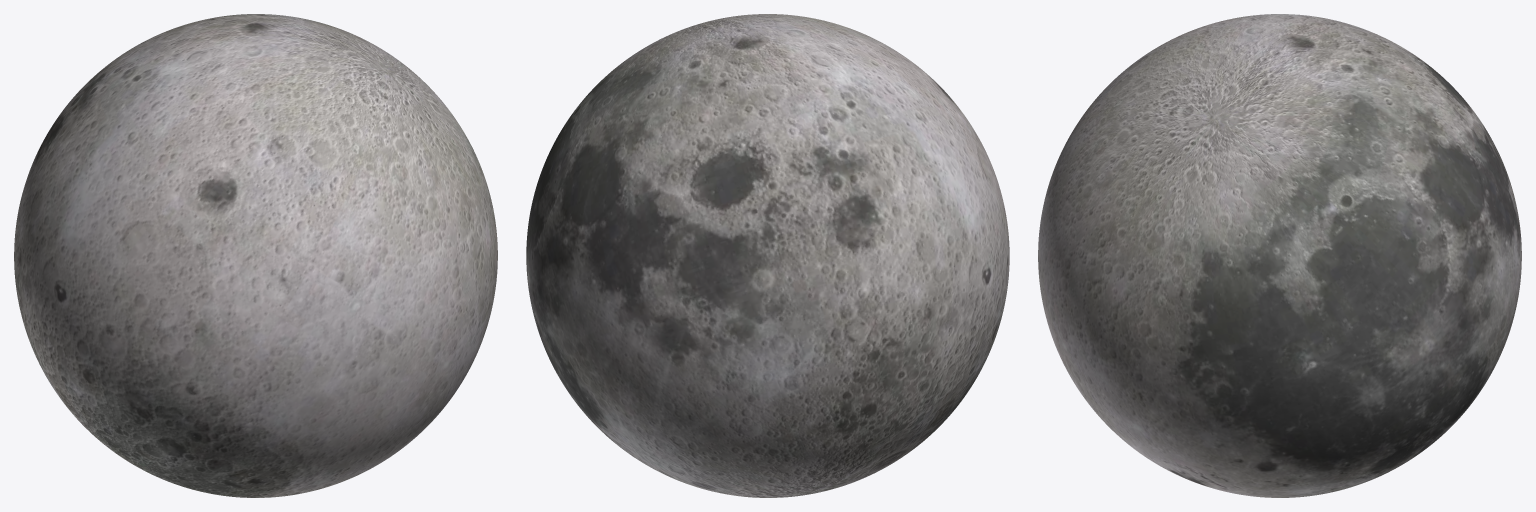
Rendered from Moon-transformed.glb.
The picture shows the model from 3 angles, left to right: view 1: azimuth 30°, elevation 25°; view 2: azimuth 150°, elevation 25°; view 3: azimuth 270°, elevation 25°; orthographic projection.
Parts seen in each view (by area): view 1: Sphere; view 2: Sphere; view 3: Sphere.
Part boxes in pixels (box(x1,y1,x2,y2)): Sphere: box(14, 14, 497, 497); Sphere: box(526, 14, 1009, 497); Sphere: box(1038, 14, 1521, 497).
Size of the model in its own units: 2 by 2 by 2.
1 material, 1 textured.
